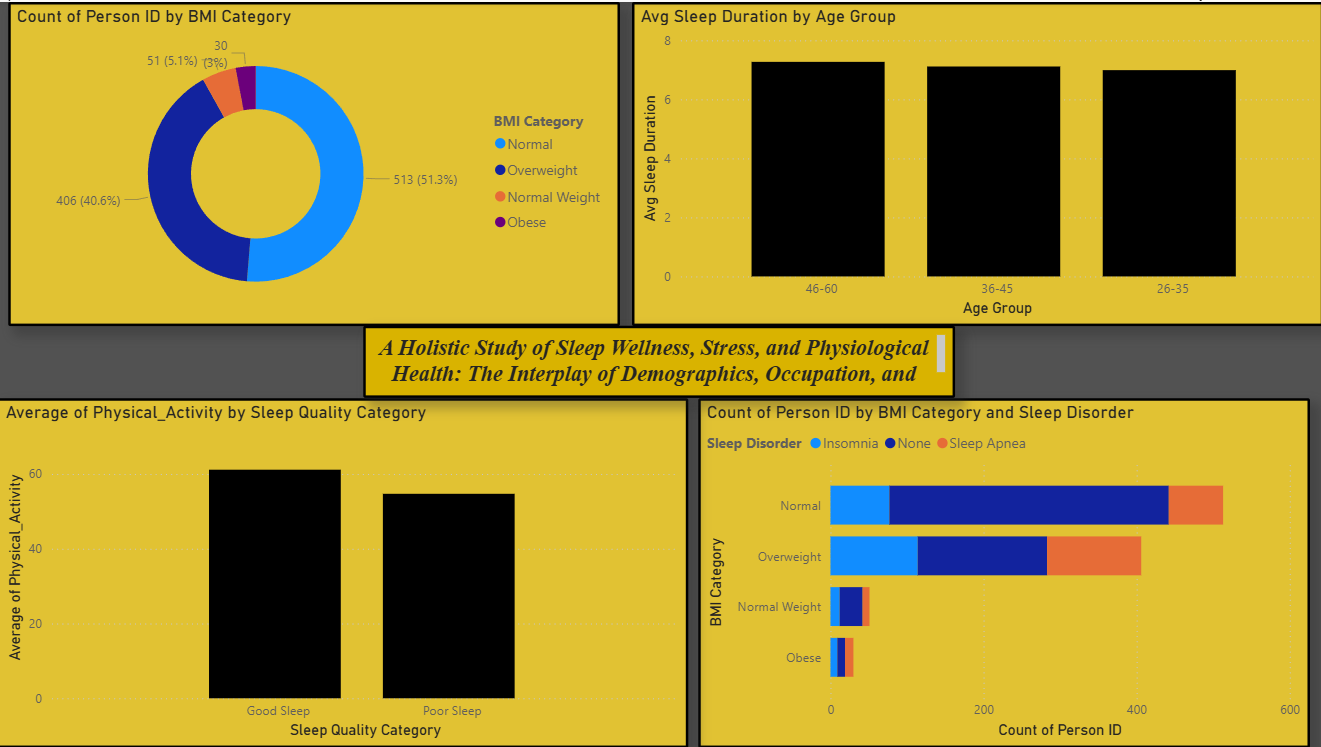

The page's visual inventory and layout, read from the dashboard file:
{"tool":"powerbi","page":{"name":"Page 5","canvas":[1280,720],"ordinal":4},"visuals":[{"type":"donutChart","fields":{"Category":["Sleep_health_and_lifestyle_data.BMI Category"],"Y":["CountNonNull(Sleep_health_and_lifestyle_data.Person ID)"]},"box":[11,0,590.1,312.9],"z":0},{"type":"barChart","fields":{"Category":["Sleep_health_and_lifestyle_data.BMI Category"],"Y":["CountNonNull(Sleep_health_and_lifestyle_data.Person ID)"],"Series":["Sleep_health_and_lifestyle_data.Sleep Disorder"]},"box":[676.5,382.8,590.1,337.6],"z":1000},{"type":"clusteredColumnChart","fields":{"Category":["Sleep_health_and_lifestyle_data.Sleep Quality Category"],"Y":["Avg(Sleep_health_and_lifestyle_data.Physical_Activity)"]},"box":[0,382.8,666.9,337.6],"z":2000},{"type":"columnChart","fields":{"Category":["Sleep_health_and_lifestyle_data.Age Group"],"Y":["Sleep_health_and_lifestyle_data.Avg Sleep Duration"]},"box":[613.4,0,666.9,312.9],"z":3000},{"type":"textbox","box":[354,312.9,570.8,70],"z":4000}]}

Visuals, with their boxes in screenshot pixels (x1, y1, x2, y2), scaled from the page's 1280x720 canvas onto the 1321x747 screenshot:
donutChart - Sleep_health_and_lifestyle_data.BMI Category x CountNonNull(Sleep_health_and_lifestyle_data.Person ID): 11:0:620:325
barChart - Sleep_health_and_lifestyle_data.BMI Category x CountNonNull(Sleep_health_and_lifestyle_data.Person ID): 698:397:1307:746
clusteredColumnChart - Sleep_health_and_lifestyle_data.Sleep Quality Category x Avg(Sleep_health_and_lifestyle_data.Physical_Activity): 0:397:688:746
columnChart - Sleep_health_and_lifestyle_data.Age Group x Sleep_health_and_lifestyle_data.Avg Sleep Duration: 633:0:1320:325
textbox: 365:325:954:397
